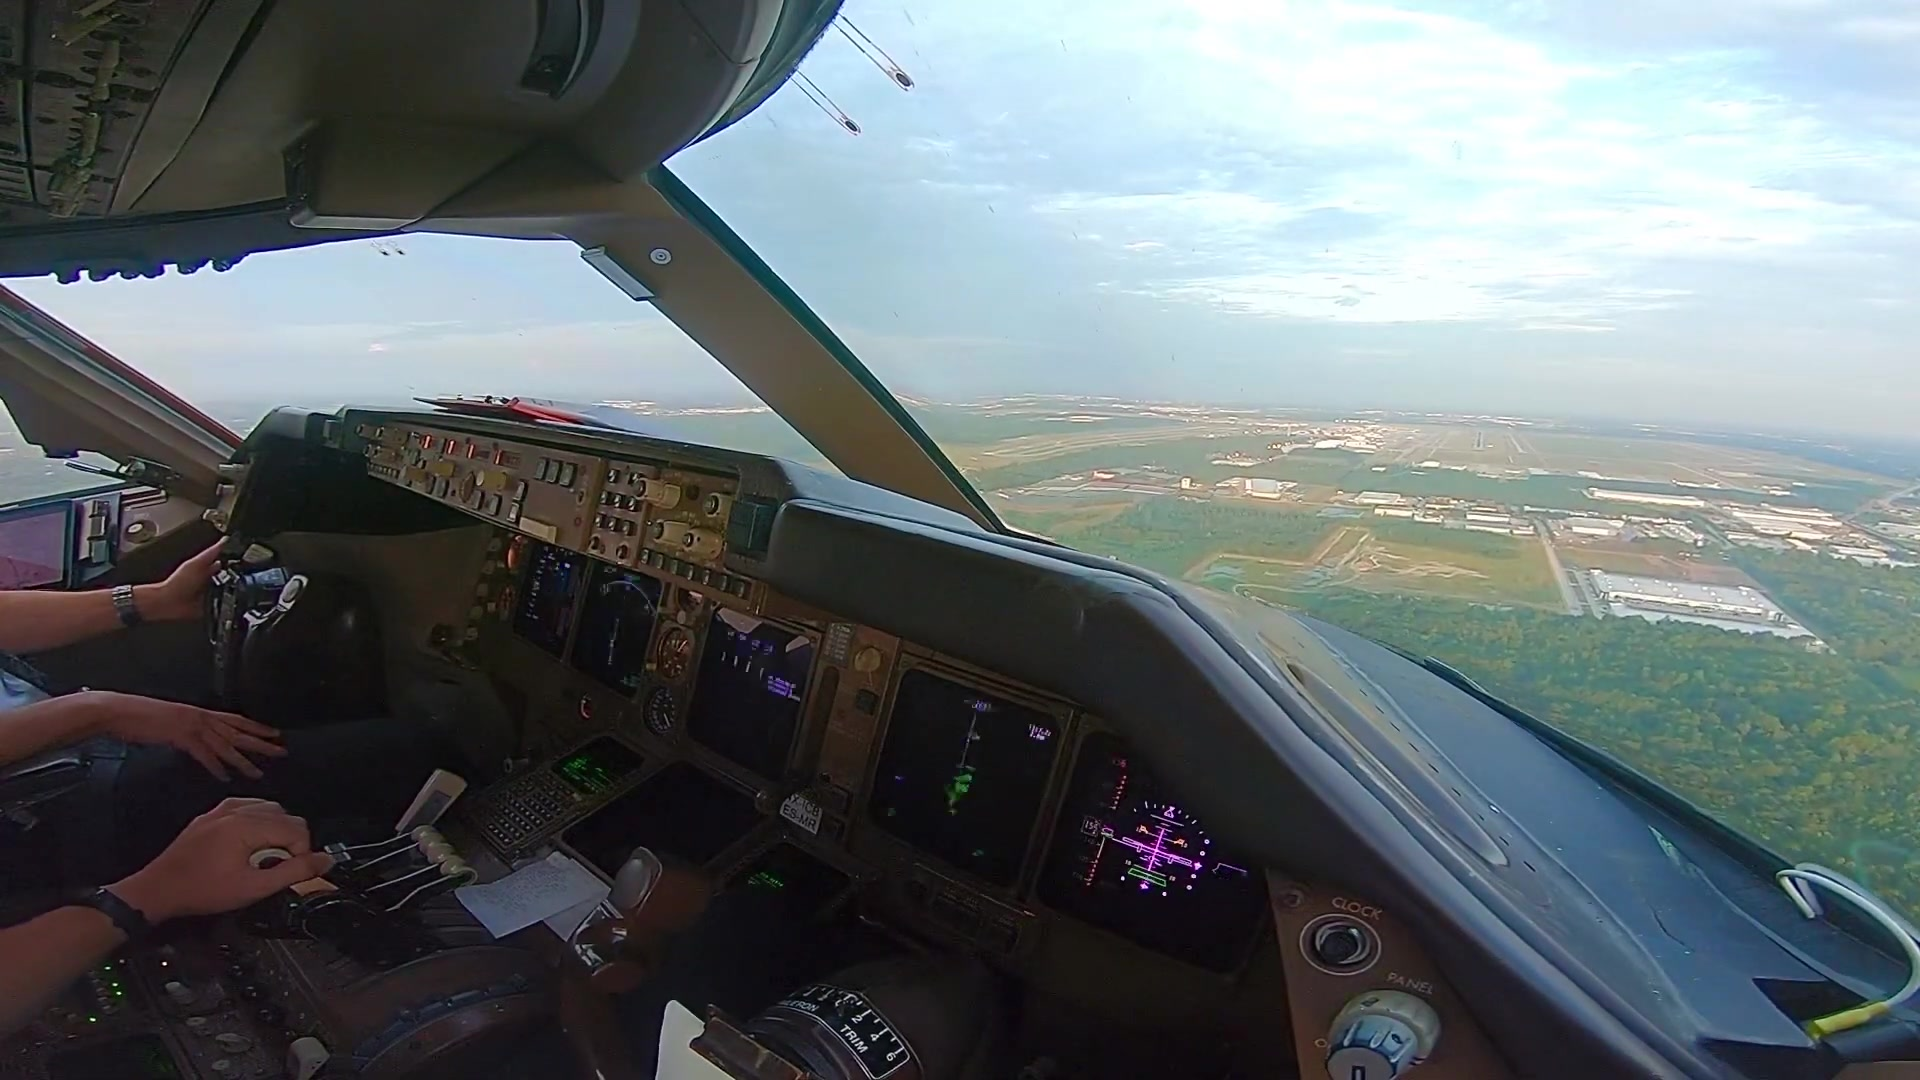runway: (1470, 430, 1485, 451)
